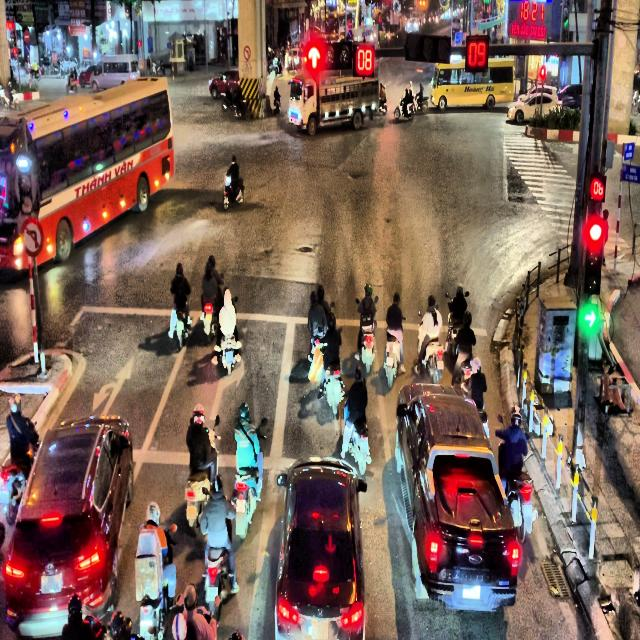lisence_plate: (302, 613, 339, 639), (310, 616, 330, 639), (40, 578, 67, 594), (461, 582, 482, 602)
